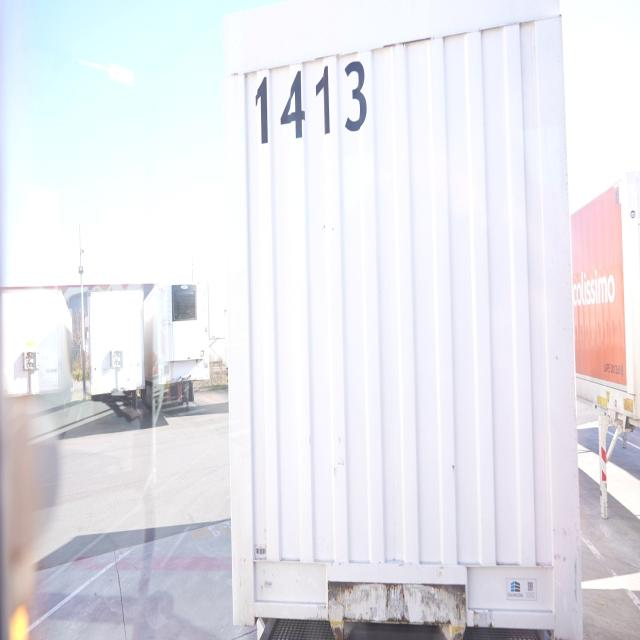Code: (248, 61, 375, 142)
